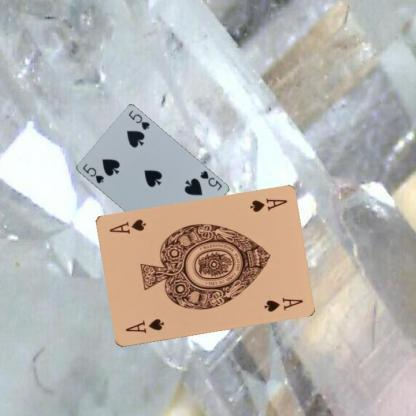5s: (197, 168, 223, 192), (80, 162, 105, 184)
As: (122, 316, 166, 335), (246, 196, 288, 214)
